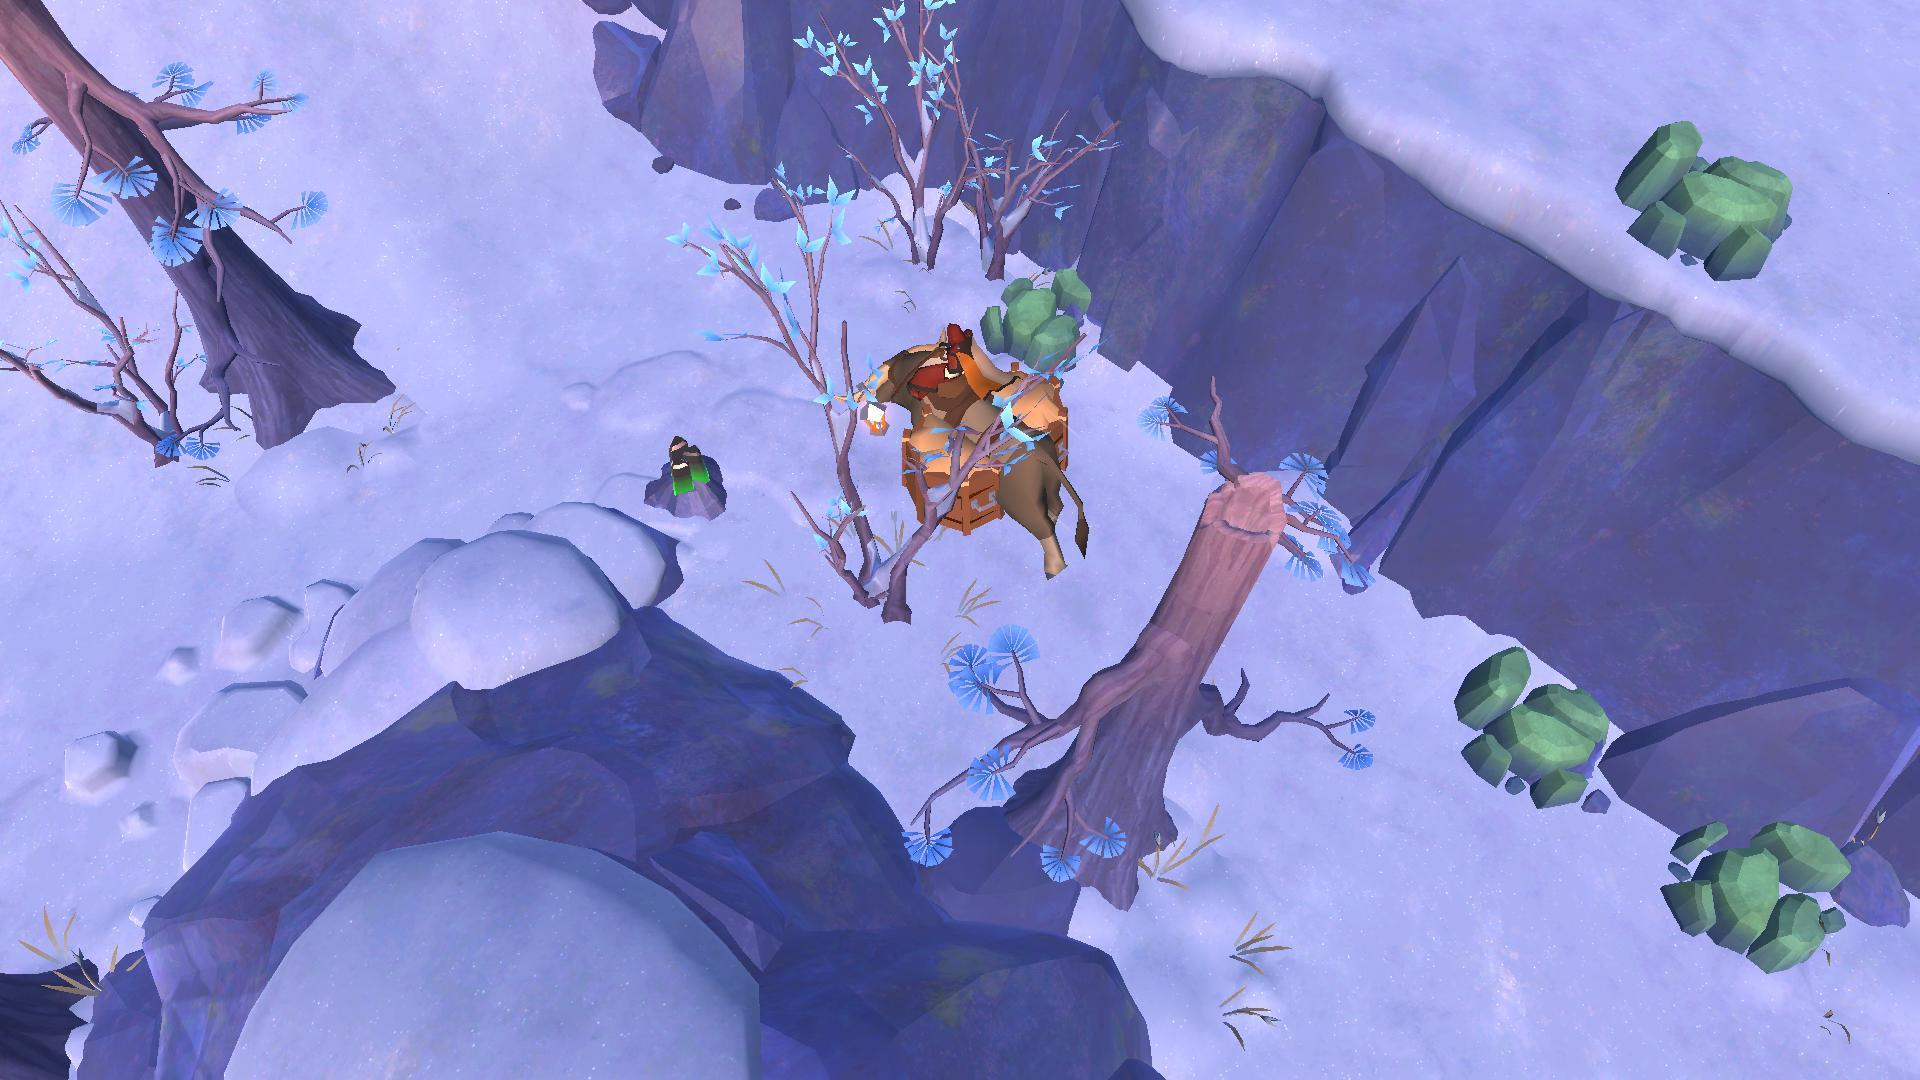ore_t3: (659, 430, 709, 502)
rock_t3: (1654, 806, 1851, 981), (1609, 107, 1796, 280), (1436, 637, 1615, 807), (977, 260, 1101, 372)
